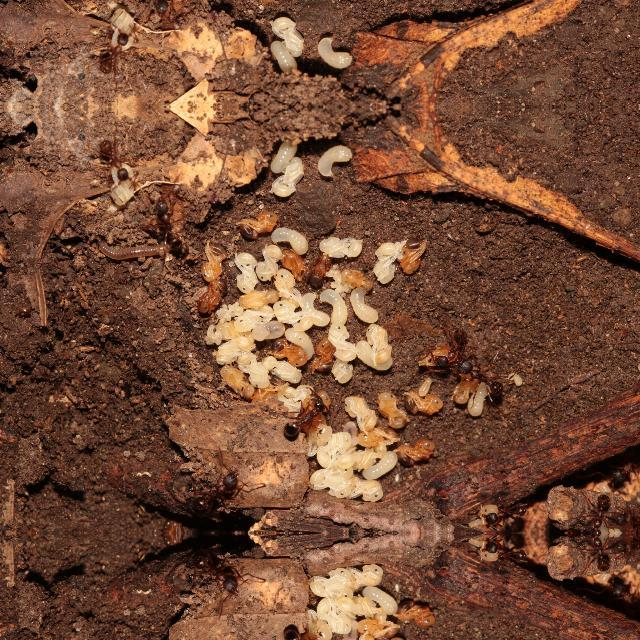Apheanogaster: (442, 352, 520, 411), (179, 463, 255, 517), (179, 548, 255, 602), (270, 388, 342, 444), (140, 190, 197, 258), (91, 129, 145, 185), (91, 27, 145, 83), (435, 323, 483, 379), (235, 203, 287, 241), (575, 532, 617, 576), (400, 386, 448, 424), (475, 498, 535, 528), (475, 537, 535, 567), (575, 490, 617, 532), (270, 620, 340, 640), (138, 0, 196, 22), (199, 277, 227, 317), (402, 436, 432, 470), (402, 595, 432, 629), (235, 0, 287, 8)
